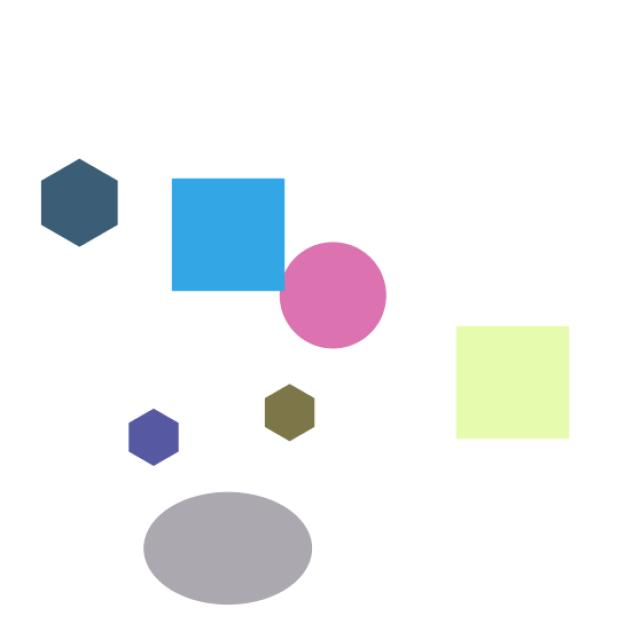Circle: (261, 233, 404, 368)
Hexagon: (23, 152, 132, 256), (256, 379, 336, 458), (119, 398, 196, 468)
Oval: (122, 488, 343, 608)
square: (443, 318, 589, 467), (149, 168, 294, 299)
